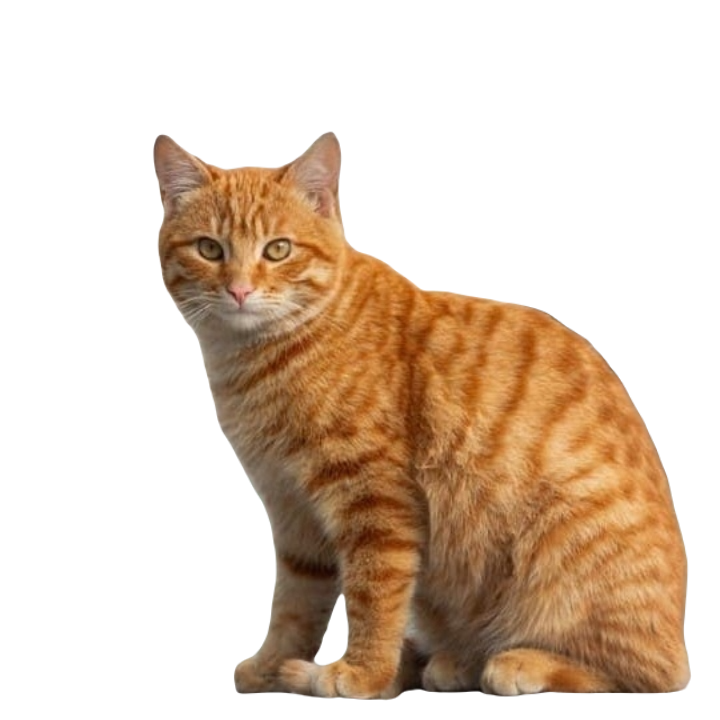Cat: (147, 126, 700, 703)
